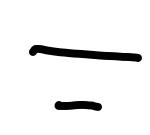eqv: (26, 42, 145, 113)
